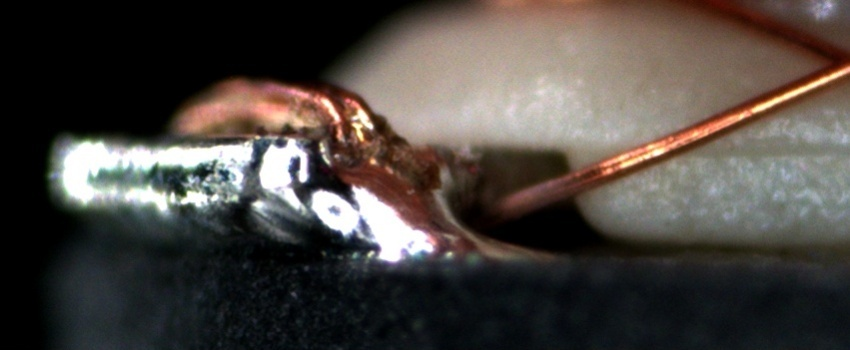CL: (799, 31, 849, 91)
DL: (680, 119, 849, 183)
TE: (258, 68, 371, 136)
